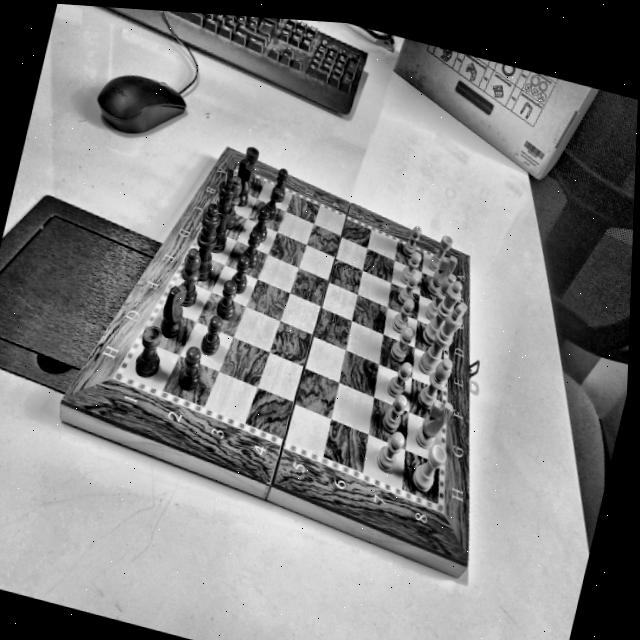black-bishop: (173, 242, 209, 311), (220, 170, 247, 230)
black-king: (201, 164, 243, 257)
black-knight: (154, 279, 194, 344), (228, 153, 262, 208)
black-pawn: (174, 344, 204, 393), (212, 274, 241, 321), (198, 312, 227, 356), (227, 249, 255, 294), (240, 224, 267, 268), (249, 205, 274, 243), (262, 181, 285, 221), (269, 164, 293, 201)
black-queen: (187, 201, 228, 284)
black-rook: (129, 320, 170, 382), (238, 142, 263, 187)
white-bishop: (417, 356, 456, 413), (424, 269, 458, 327)
white-king: (416, 294, 471, 382)
white-knight: (412, 394, 455, 452), (426, 249, 460, 300)
white-pawn: (373, 426, 408, 474), (378, 391, 409, 436), (384, 357, 414, 401), (388, 322, 415, 366), (391, 296, 415, 333), (400, 248, 423, 285), (397, 271, 420, 306), (402, 221, 423, 258)
white-queen: (421, 273, 466, 353)
white-rook: (407, 437, 448, 497), (427, 219, 457, 273)
